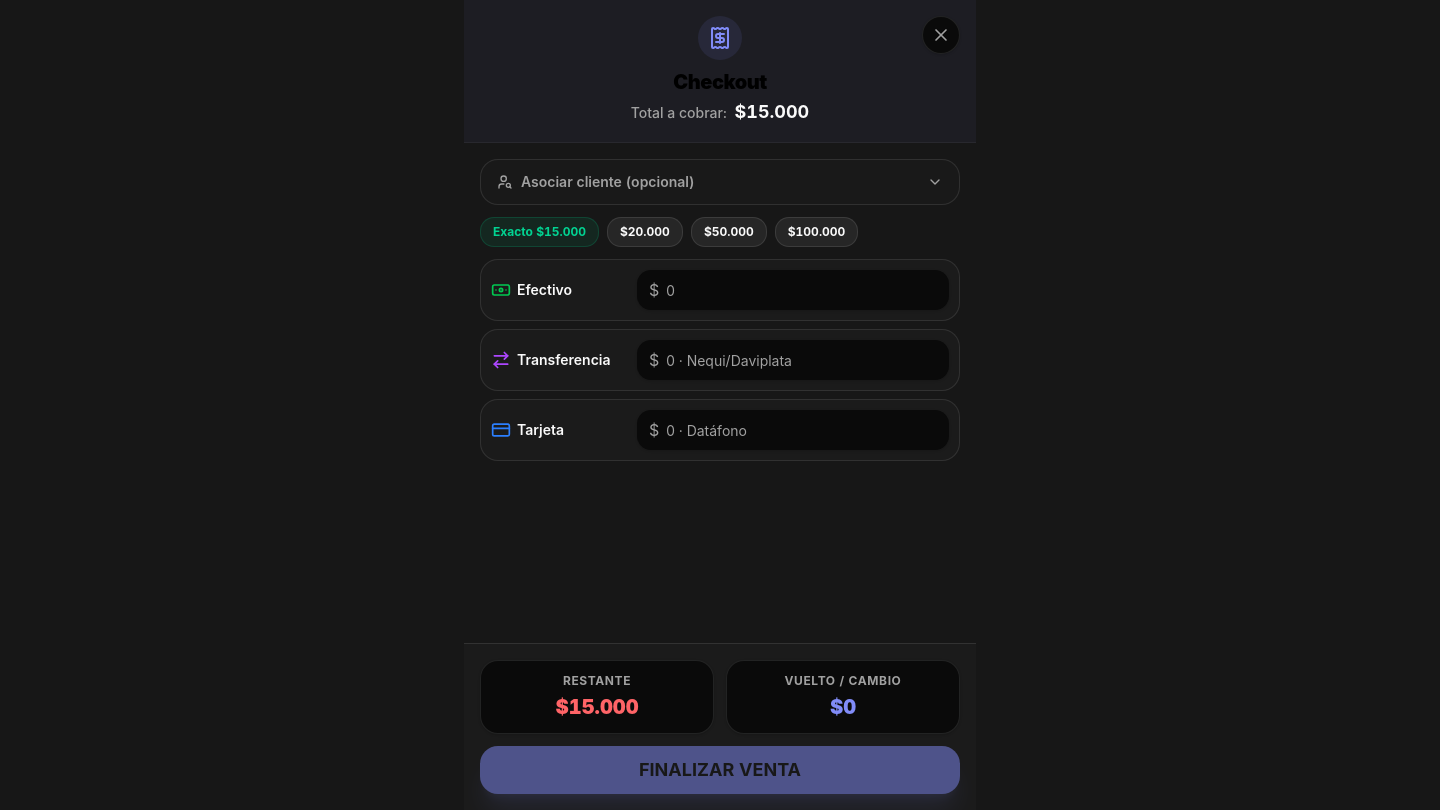
Test: CheckoutModal — payment stage › shows the server error message when processSale returns ok:false
This screenshot has width=1440, height=810.
In the field with placeholder "0": (793, 290) [637, 270, 949, 310], type "15000"
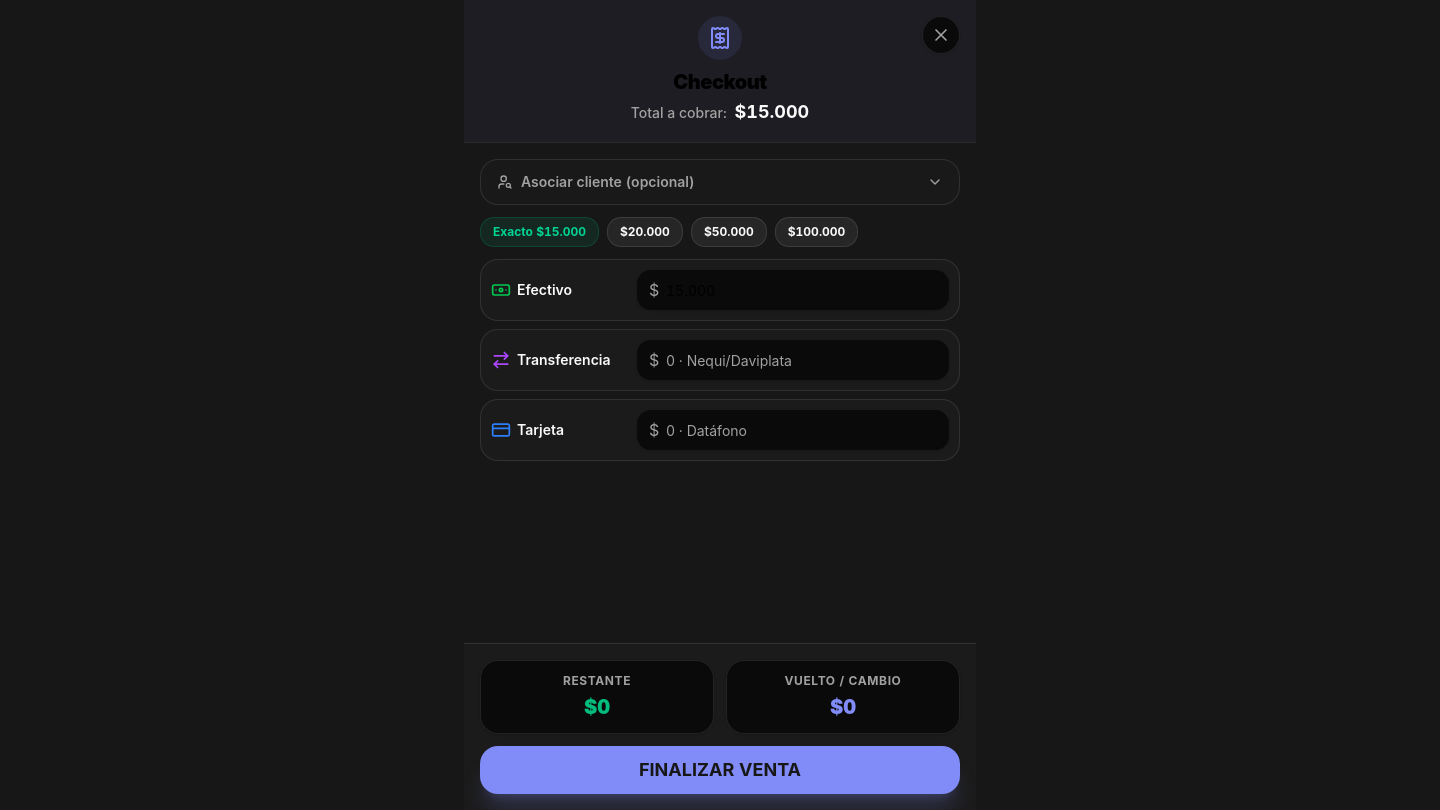
Click the button "FINALIZAR VENTA": (720, 770) [480, 746, 960, 794]
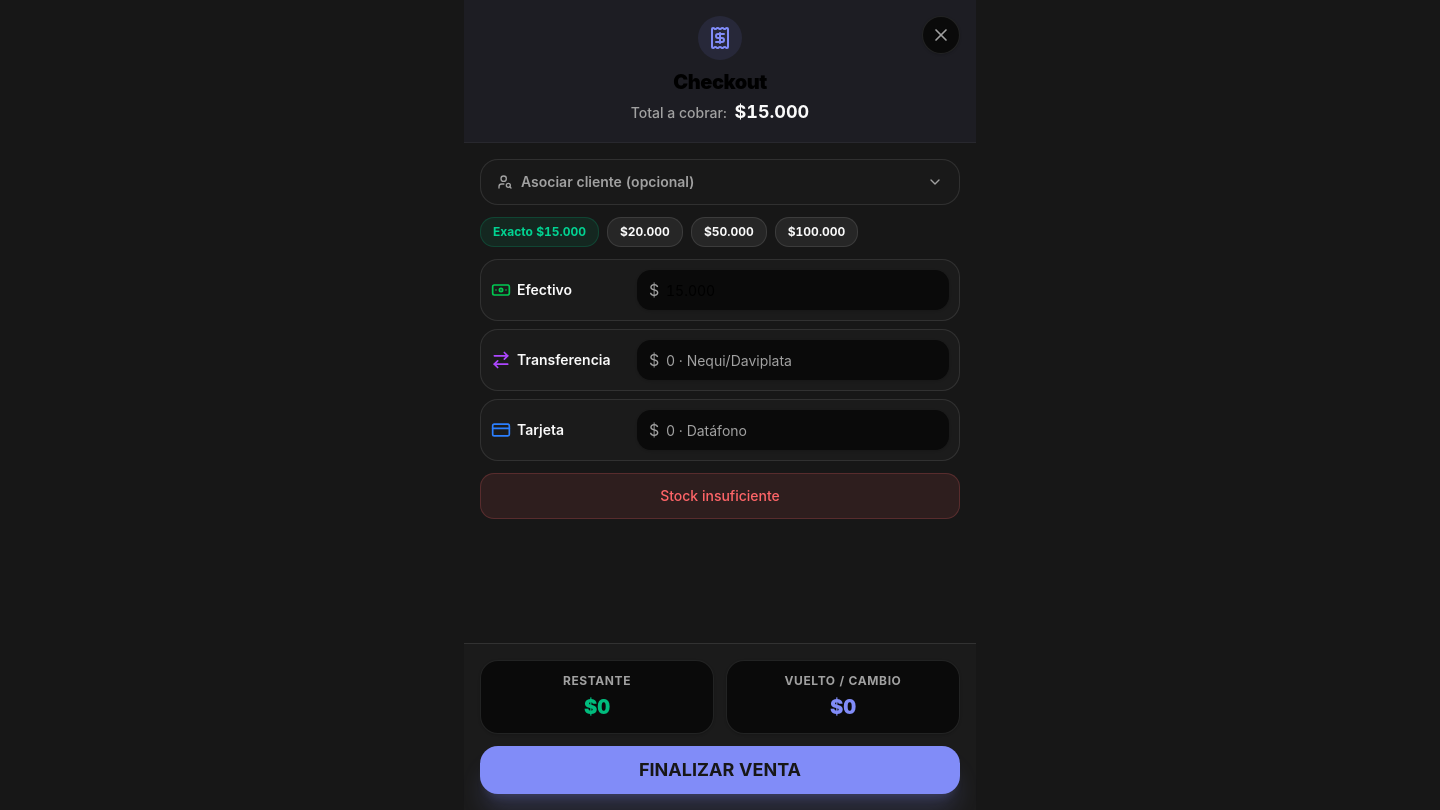
Expected: the text "Stock insuficiente" is shown, [480, 473, 960, 519]
